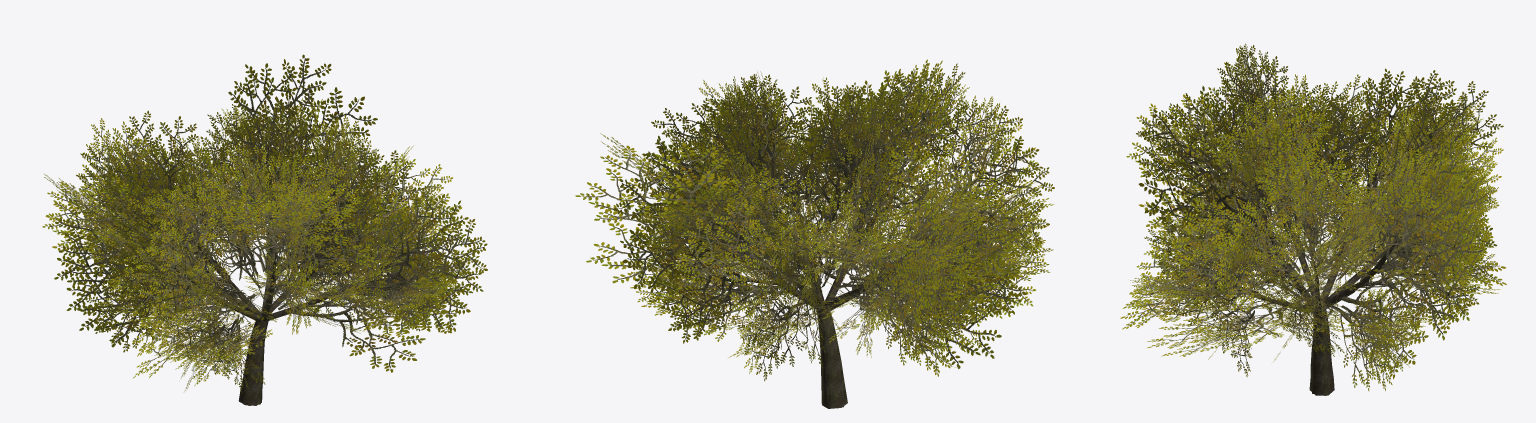
File: far.glb
The picture shows the model from 3 angles, left to right: view 1: azimuth 30°, elevation 25°; view 2: azimuth 150°, elevation 25°; view 3: azimuth 270°, elevation 25°; orthographic projection. The views are drawn at different scales.
Parts seen in each view (by area): view 1: lod1, lod2; view 2: lod1, lod2; view 3: lod1, lod2.
Boxes of the visible parts, x1,y1,x2,y2 form: lod1: (56,101,462,405); lod2: (42,54,487,405); lod1: (631,63,1053,408); lod2: (575,59,1054,407); lod1: (1126,43,1503,395); lod2: (1120,68,1506,395).
Size of the model in its own units: 61.3 by 48.33 by 57.68.
Materials: 2 (2 with a texture image).
